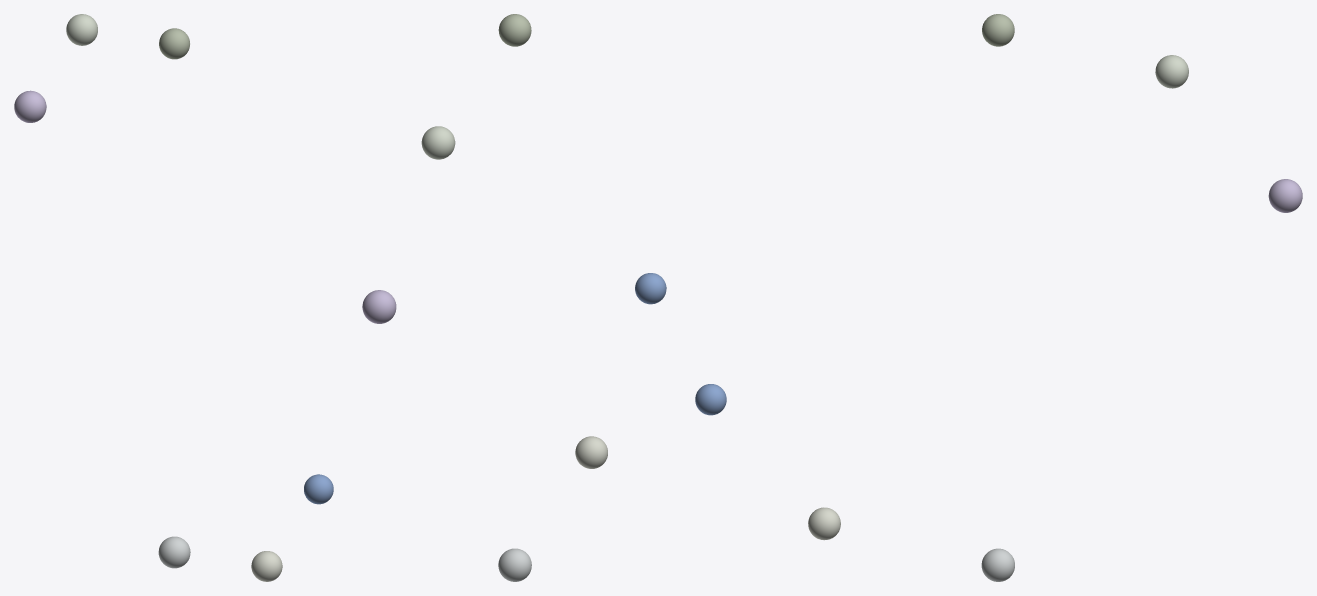
Rendered from spheres.glb.
3 renders of one model, left to right at view 1: azimuth 30°, elevation 25°; view 2: azimuth 150°, elevation 25°; view 3: azimuth 270°, elevation 25°, orthographic. The views are drawn at different scales.
Parts seen in each view (by area): view 1: Butons; view 2: Butons; view 3: Butons.
Part boxes in pixels (x1,y1,x2,y2): Butons: (14, 14, 333, 581); Butons: (362, 14, 666, 581); Butons: (695, 14, 1302, 581).
Size of the model in its own units: 0.0828 by 0.9082 by 0.8851.
